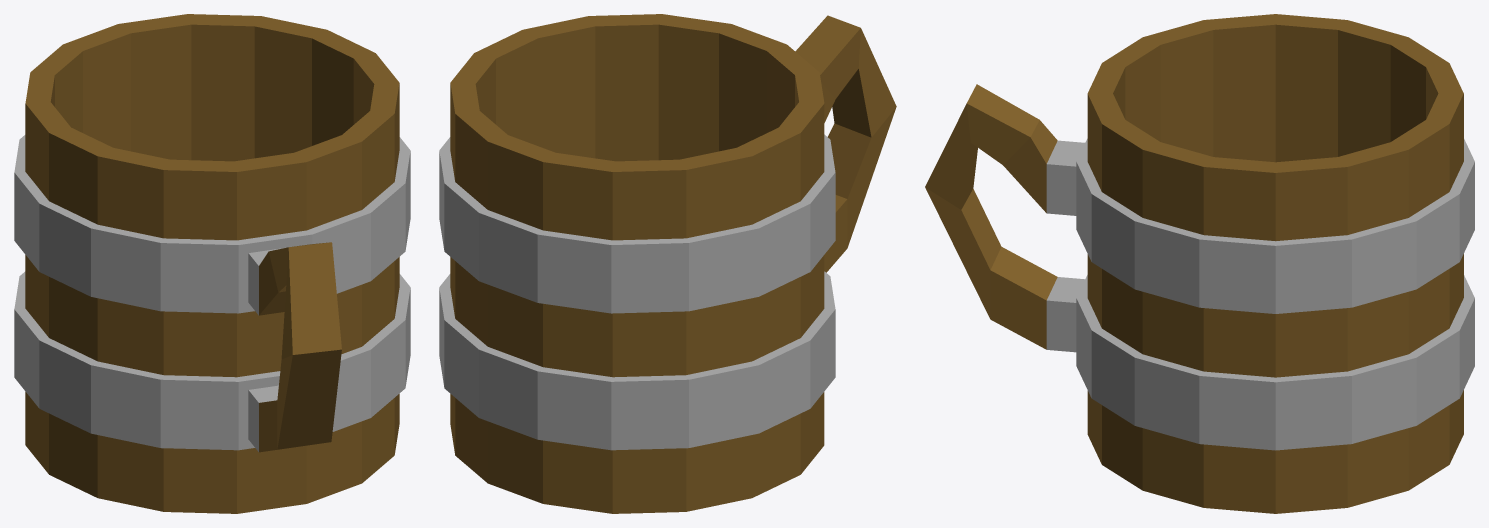
The model's file is Empty_Mug.fbx.
3 renders of one model, left to right at view 1: azimuth 30°, elevation 25°; view 2: azimuth 150°, elevation 25°; view 3: azimuth 270°, elevation 25°, orthographic.
Visible parts, largest first — view 1: Cylinder; view 2: Cylinder; view 3: Cylinder.
Boxes of the visible parts, x1,y1,x2,y2 form: Cylinder: (14,14,410,513); Cylinder: (439,14,896,513); Cylinder: (925,14,1474,513).
Size of the model in its own units: 212 by 200 by 292.
